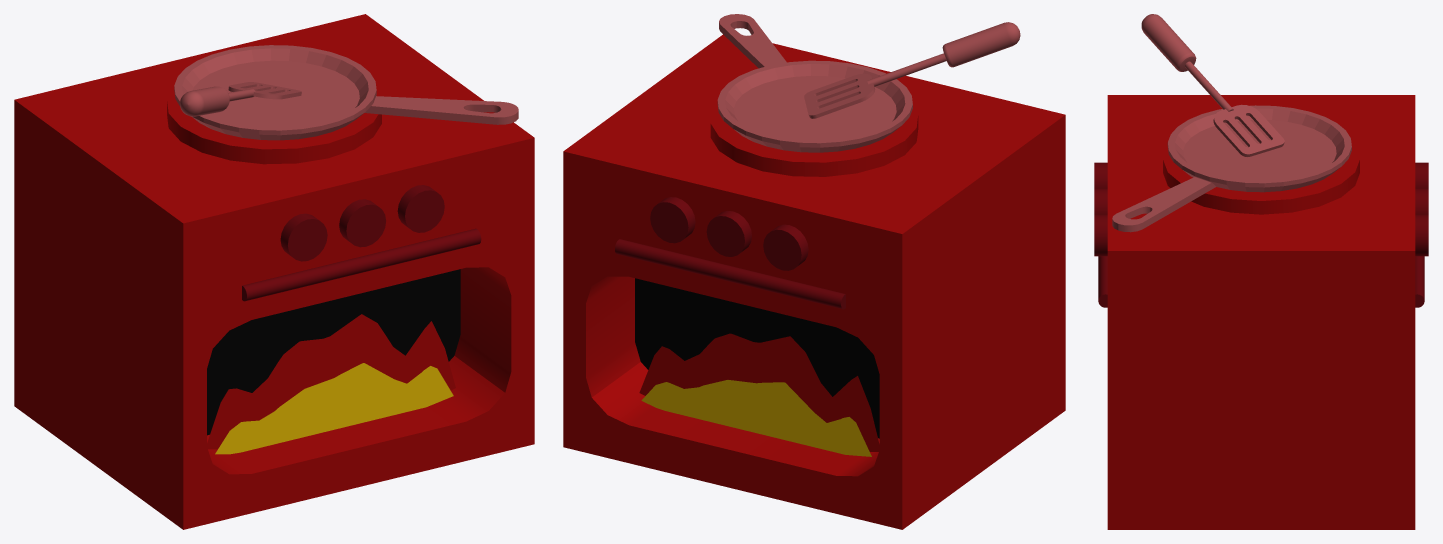
The model's file is red_broken_frying.fbx.
The picture shows the model from 3 angles, left to right: view 1: azimuth 30°, elevation 25°; view 2: azimuth 150°, elevation 25°; view 3: azimuth 270°, elevation 25°; orthographic projection. The views are drawn at different scales.
Parts seen in each view (by area): view 1: ovenframe, panbowl, ovenmiddle, nurbsToPoly3, nurbsToPoly4, hotsurface, handle2, handle, knob6, knob3, knob2, pCylinder2 (+1 smaller); view 2: ovenframe, ovenmiddle, panbowl, nurbsToPoly2, nurbsToPoly1, hotsurface, handle1, pCylinder2, pPlane2, handle, knob5, knob1 (+2 smaller); view 3: ovenframe, panbowl, hotsurface, handle, pPlane2, pCylinder2, knob1, knob3, pCylinder1, handle2, handle1.
Boxes of the visible parts, <box> form: ovenframe: <box>14,14,534,529</box>; panbowl: <box>174,45,376,140</box>; ovenmiddle: <box>207,269,460,435</box>; nurbsToPoly3: <box>207,314,455,449</box>; nurbsToPoly4: <box>215,363,453,454</box>; hotsurface: <box>167,88,381,164</box>; handle2: <box>242,228,481,301</box>; handle: <box>365,96,518,124</box>; knob6: <box>280,213,327,261</box>; knob3: <box>397,185,444,232</box>; knob2: <box>339,199,385,247</box>; pCylinder2: <box>180,86,229,116</box>; ovenframe: <box>563,34,1065,529</box>; ovenmiddle: <box>635,278,879,438</box>; panbowl: <box>717,60,912,152</box>; nurbsToPoly2: <box>639,333,879,451</box>; nurbsToPoly1: <box>641,380,871,456</box>; hotsurface: <box>710,104,918,176</box>; handle1: <box>615,239,845,309</box>; pCylinder2: <box>942,22,1020,67</box>; pPlane2: <box>804,73,875,118</box>; handle: <box>719,14,786,68</box>; knob5: <box>763,224,808,270</box>; knob1: <box>650,197,695,243</box>; ovenframe: <box>1107,95,1415,529</box>; panbowl: <box>1167,105,1351,192</box>; hotsurface: <box>1163,144,1359,214</box>; handle: <box>1112,177,1215,232</box>; pPlane2: <box>1213,104,1284,156</box>; pCylinder2: <box>1141,14,1196,71</box>; knob1: <box>1415,214,1428,256</box>; knob3: <box>1094,214,1107,256</box>; pCylinder1: <box>1184,61,1233,111</box>; handle2: <box>1098,256,1107,307</box>; handle1: <box>1415,256,1424,307</box>.
Size of the model in its own units: 30 by 33.55 by 27.15.
